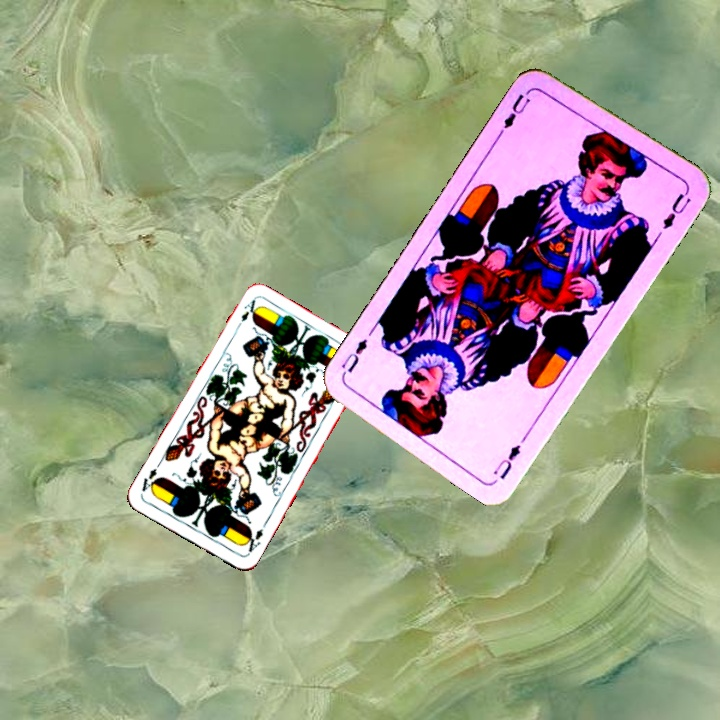EA: (232, 295, 261, 333), (239, 525, 266, 557)
EU: (495, 85, 534, 137), (489, 440, 524, 483)
